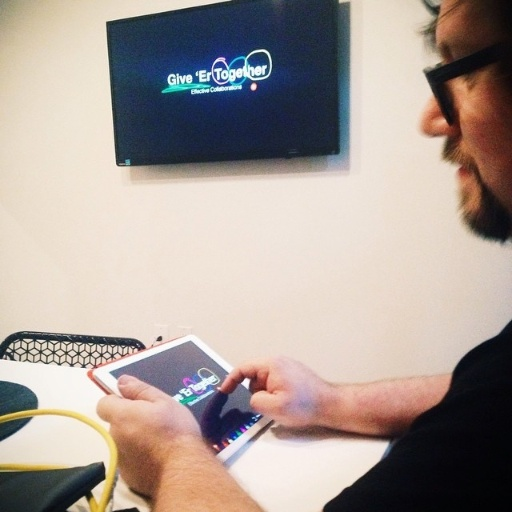hand: (209, 357, 460, 462), (92, 371, 205, 500)
